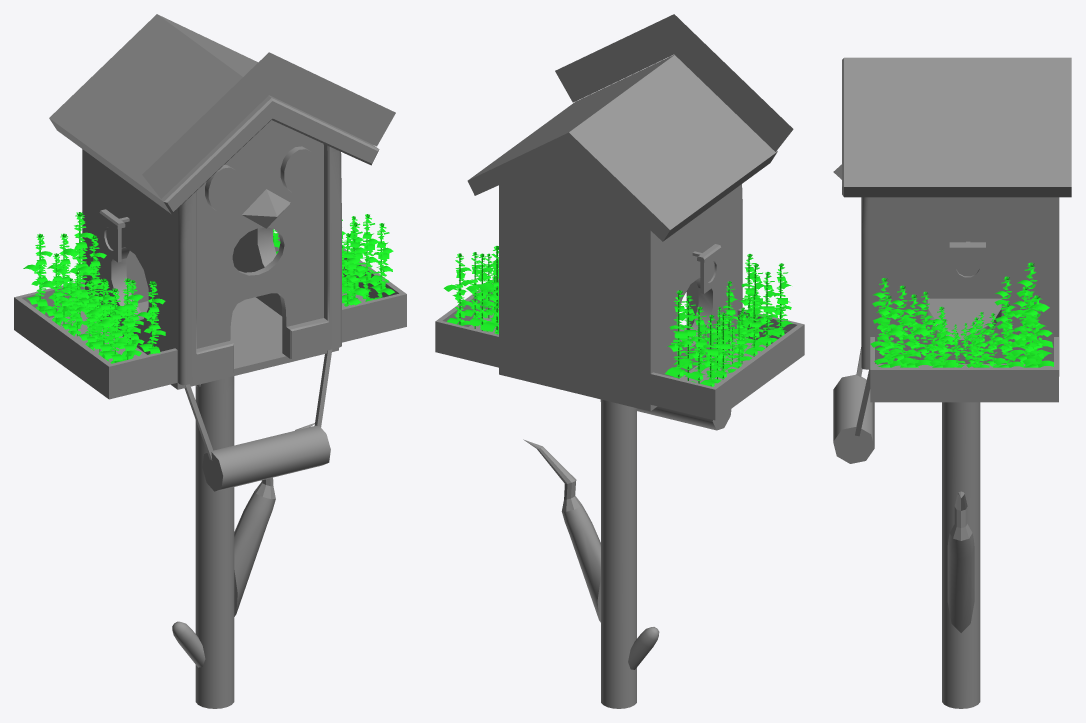
File: BridHouse.fbx
3 views of the same model, side by side, from view 1: azimuth 30°, elevation 25°; view 2: azimuth 150°, elevation 25°; view 3: azimuth 270°, elevation 25° (orthographic). The views are drawn at different scales.
Visible parts, largest first — view 1: Plane002, Object086, Cylinder003, Object085, Plane005, Cylinder008, Object001, Plane385, Cylinder007, Cylinder025, Cylinder001, Hedra001 (+15 smaller); view 2: Plane002, Object086, Cylinder003, Object085, Plane005, Cylinder007, Plane385, Object001, Plane330, Cylinder008, Plane332, Plane387 (+8 smaller); view 3: Object086, Plane002, Cylinder003, Plane385, Cylinder007, Cylinder008, Object001, Plane388, Plane389, Plane390, Plane395, Plane387 (+10 smaller).
Part boxes in pixels (box(x1,y1,x2,y2)): Plane002: box(82, 120, 341, 385); Object086: box(49, 14, 379, 213); Cylinder003: box(195, 376, 234, 708); Object085: box(142, 52, 395, 198); Plane005: box(14, 282, 177, 399); Cylinder008: box(202, 425, 330, 491); Object001: box(137, 297, 338, 389); Plane385: box(274, 233, 406, 342); Cylinder007: box(234, 423, 314, 616); Cylinder025: box(280, 146, 317, 193); Cylinder001: box(205, 165, 241, 212); Hedra001: box(242, 189, 290, 228); Plane002: box(499, 153, 742, 404); Object086: box(467, 54, 777, 241); Cylinder003: box(600, 399, 636, 708); Object085: box(555, 14, 793, 151); Plane005: box(650, 308, 804, 420); Cylinder007: box(523, 439, 600, 622); Plane385: box(435, 278, 498, 367); Object001: box(499, 325, 686, 411); Plane330: box(665, 290, 693, 378); Cylinder008: box(637, 406, 731, 430); Plane332: box(751, 272, 779, 351); Plane387: box(466, 253, 494, 332); Object086: box(842, 57, 1071, 197); Plane002: box(861, 197, 1059, 369); Cylinder003: box(942, 402, 980, 708); Plane385: box(870, 337, 1058, 402); Cylinder007: box(947, 491, 974, 632); Cylinder008: box(833, 374, 874, 463); Object001: box(927, 298, 1059, 376); Plane388: box(1014, 262, 1053, 360); Plane389: box(1022, 295, 1053, 367); Plane390: box(900, 294, 932, 367); Plane395: box(874, 295, 906, 367); Plane387: box(1011, 286, 1043, 367).
Bounding box in the file's own units: 70.41 × 156 × 49.19.
